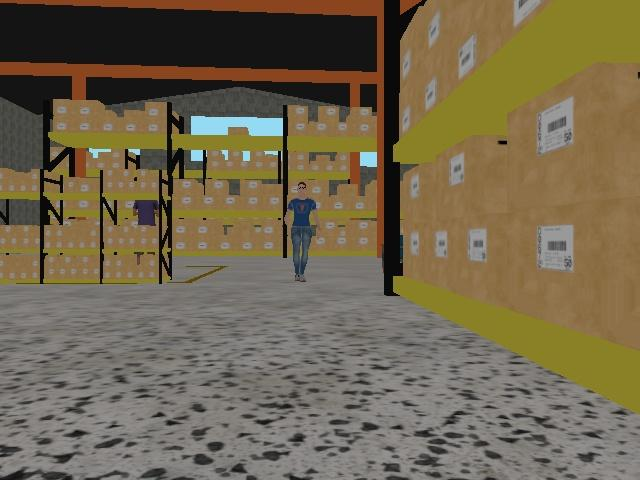person: (282, 181, 323, 284)
